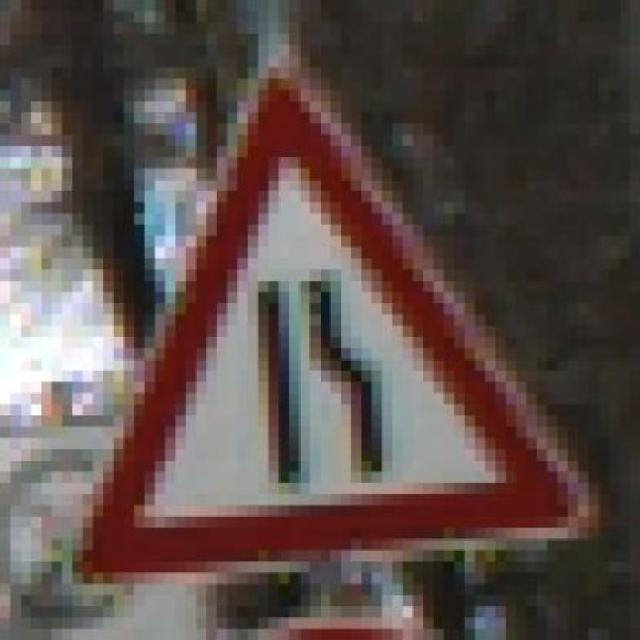-Road narrows on right: (61, 56, 598, 584)
